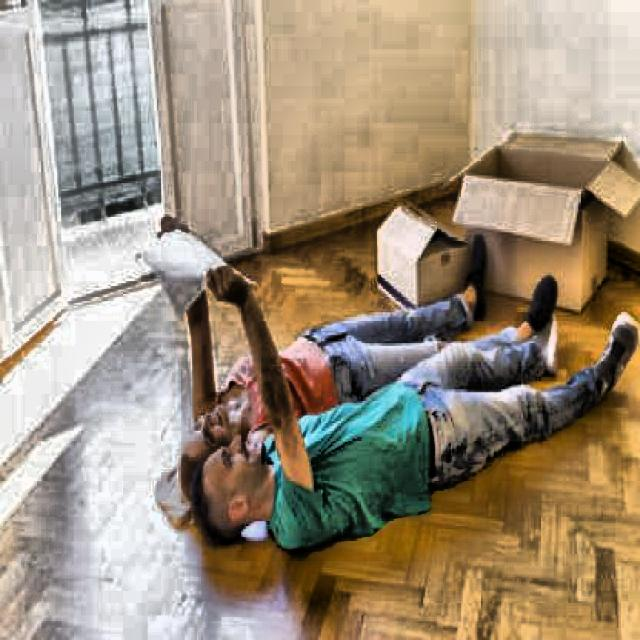Cardbox: (448, 108, 640, 318), (361, 195, 498, 313)
